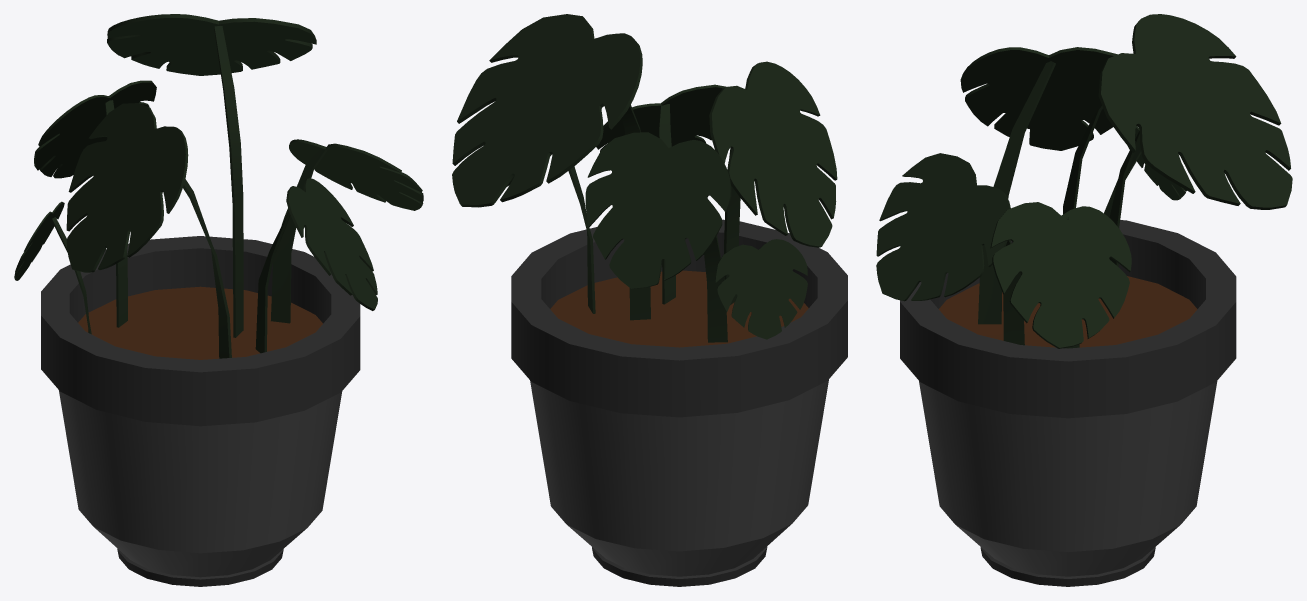
Rendered from PlantePot.fbx.
3 renders of one model, left to right at view 1: azimuth 30°, elevation 25°; view 2: azimuth 150°, elevation 25°; view 3: azimuth 270°, elevation 25°, orthographic. The views are drawn at different scales.
Parts seen in each view (by area): view 1: PlantePot; view 2: PlantePot; view 3: PlantePot.
Part boxes in pixels (bbox=[...]): PlantePot: bbox=[14, 14, 423, 586]; PlantePot: bbox=[452, 14, 847, 586]; PlantePot: bbox=[876, 14, 1292, 586].
Size of the model in its own units: 33.24 by 44.68 by 31.38.
